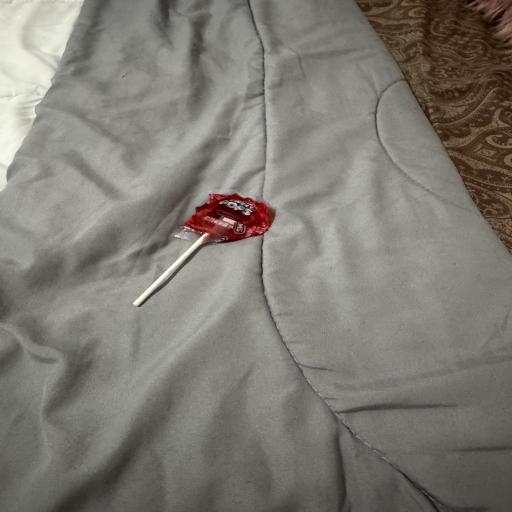chocolate: (133, 193, 271, 307)
